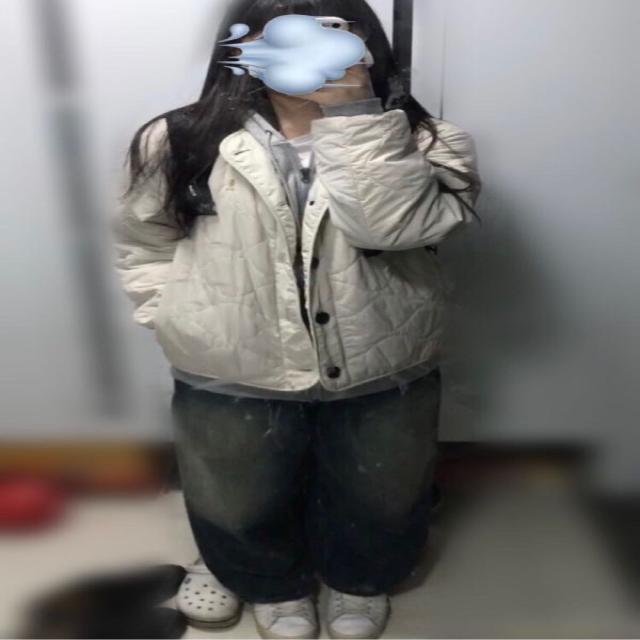denimpants: (168, 365, 440, 610)
padding: (108, 94, 482, 392)
